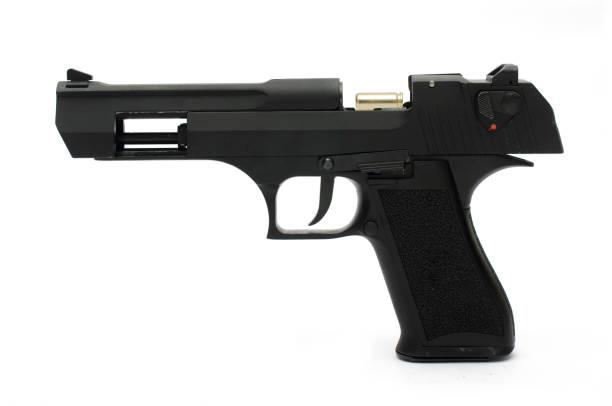weapon: (49, 63, 566, 372)
